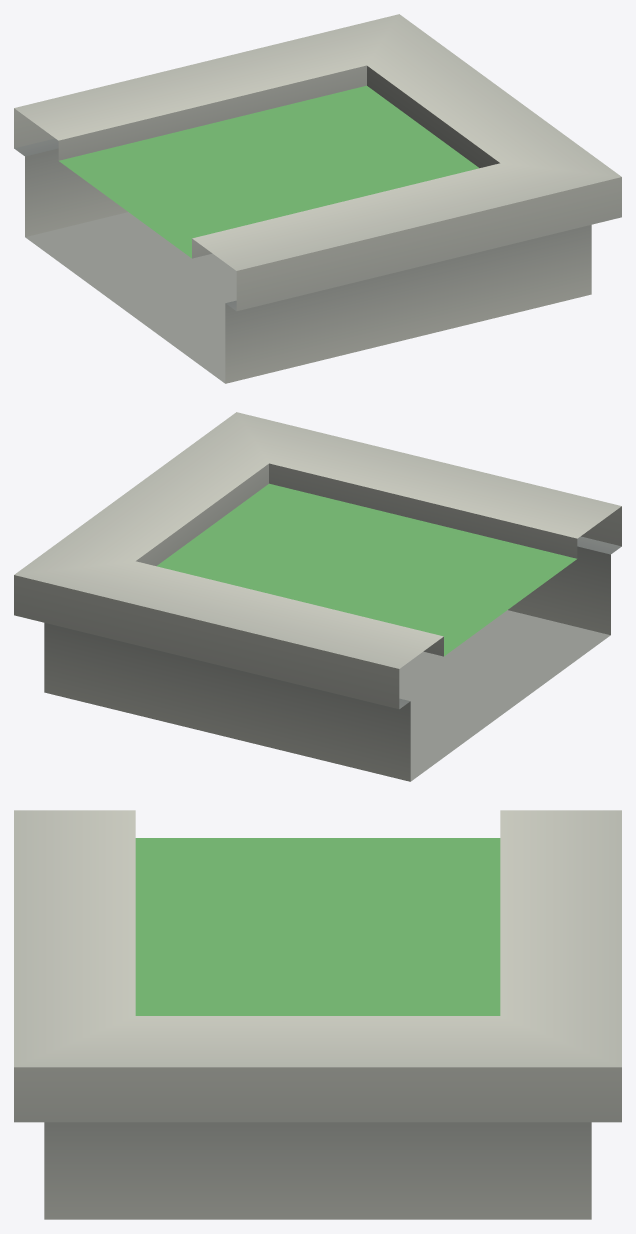
Rendered from Planter_End_Medium_01.fbx.
The picture shows the model from 3 angles, top to bottom: view 1: azimuth 30°, elevation 25°; view 2: azimuth 150°, elevation 25°; view 3: azimuth 270°, elevation 25°; orthographic projection. The views are drawn at different scales.
Visible parts, largest first — view 1: Planter_End_Medium_01; view 2: Planter_End_Medium_01; view 3: Planter_End_Medium_01.
Boxes of the visible parts, x1,y1,x2,y2 form: Planter_End_Medium_01: [14, 14, 621, 383]; Planter_End_Medium_01: [14, 412, 621, 781]; Planter_End_Medium_01: [14, 810, 621, 1219].
Size of the model in its own units: 200 by 60 by 200.
